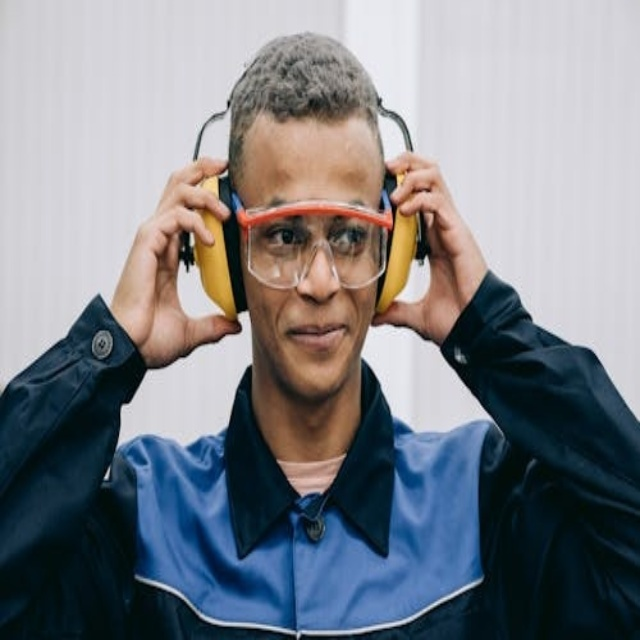Gafas: (237, 193, 393, 291)
Sin_guantes: (101, 152, 236, 373), (376, 148, 490, 342)
Sin_mascara: (275, 315, 351, 381)
